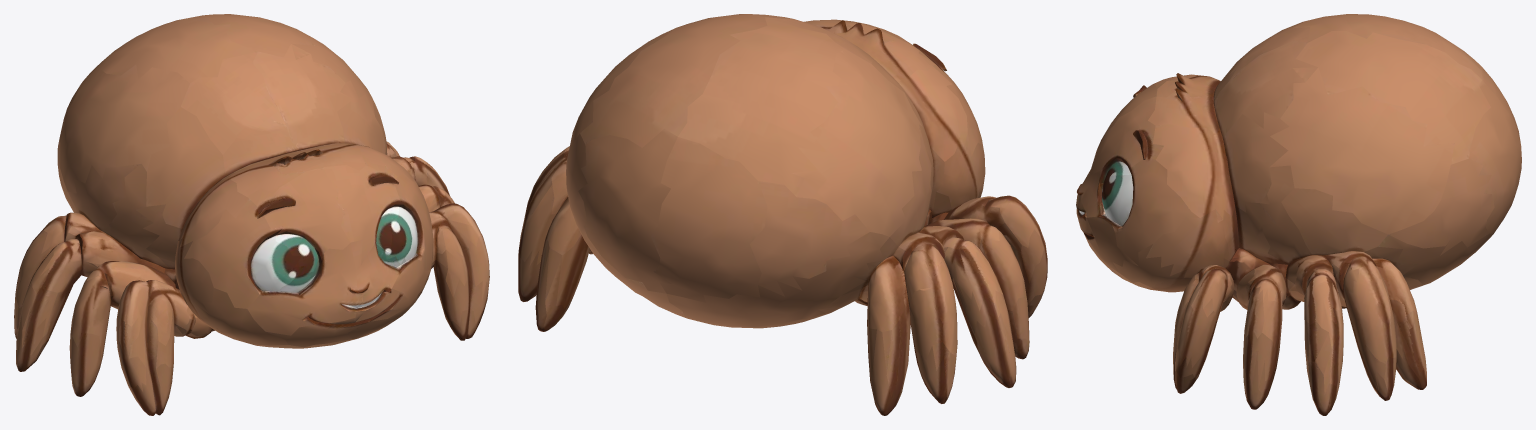
Rendered from pet_webster.glb.
3 views of the same model, side by side, from view 1: azimuth 30°, elevation 25°; view 2: azimuth 150°, elevation 25°; view 3: azimuth 270°, elevation 25° (orthographic). The views are drawn at different scales.
Bounding box in the file's own units: 1.9 × 1.16 × 1.65.
Materials: 1 (1 with a texture image).
